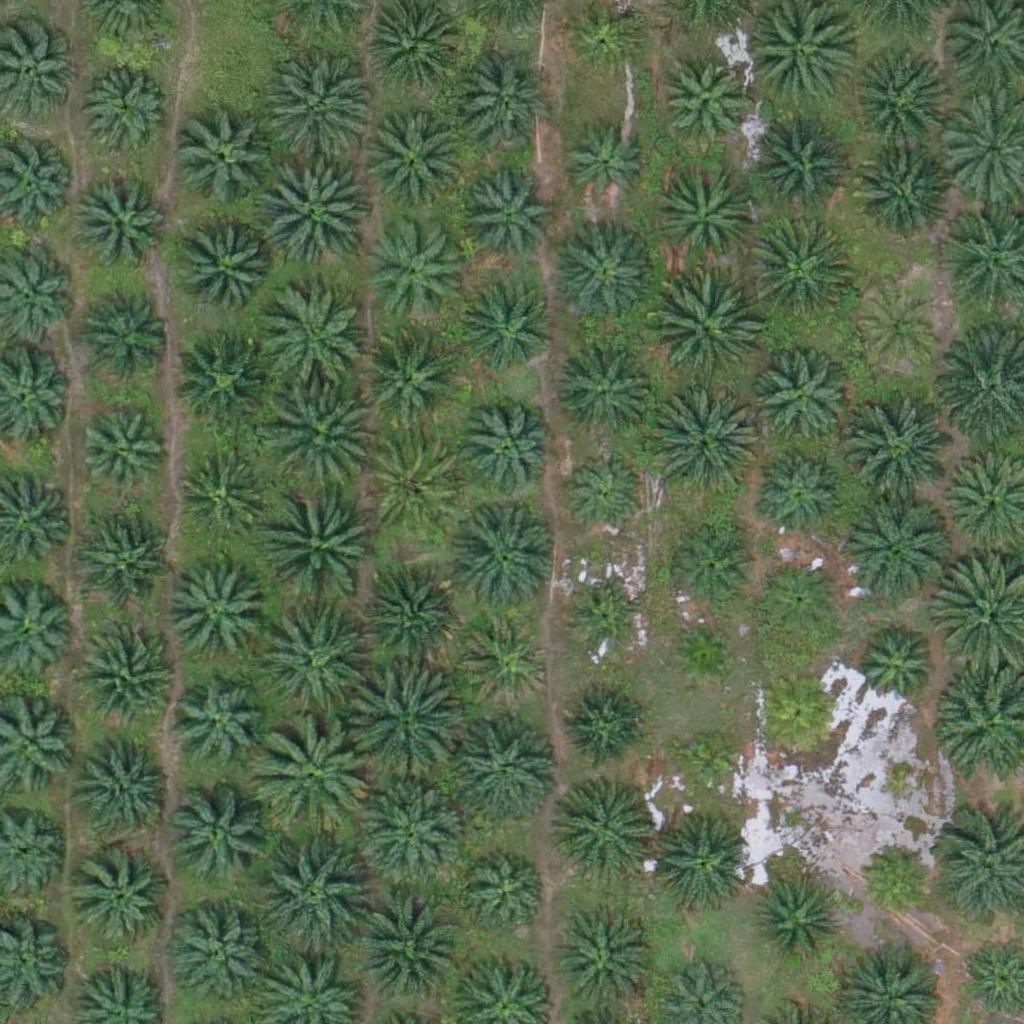Kelapa_Sawit: (253, 606, 366, 720), (262, 378, 375, 492), (259, 50, 372, 163), (257, 837, 370, 950), (646, 385, 759, 498), (647, 273, 760, 386), (256, 286, 369, 399), (262, 157, 375, 270), (358, 774, 470, 888), (264, 481, 376, 595), (255, 720, 367, 833), (345, 668, 457, 781), (350, 889, 462, 1002), (448, 709, 560, 822), (745, 215, 857, 328), (447, 499, 559, 612), (843, 398, 955, 511), (838, 491, 950, 604), (174, 107, 274, 208), (459, 51, 559, 152), (742, 114, 842, 215), (845, 45, 945, 146), (72, 847, 172, 948), (73, 623, 173, 724), (170, 674, 270, 775), (168, 784, 268, 885), (556, 915, 656, 1016), (647, 813, 747, 914), (750, 347, 850, 448), (654, 166, 754, 267), (552, 226, 652, 327), (554, 339, 654, 440), (456, 398, 556, 499), (362, 216, 462, 317), (359, 326, 459, 427), (75, 511, 175, 612), (366, 109, 466, 209), (80, 734, 180, 834), (164, 565, 264, 665), (167, 902, 267, 1002), (360, 569, 460, 669), (553, 777, 653, 877), (846, 142, 946, 242), (365, 435, 465, 535), (176, 217, 276, 317), (176, 331, 276, 431), (79, 282, 179, 382), (71, 173, 171, 273), (754, 667, 842, 756), (81, 60, 169, 148), (658, 58, 746, 146), (754, 554, 842, 642), (855, 285, 943, 373), (559, 452, 647, 540), (462, 284, 550, 372), (461, 175, 549, 263), (175, 450, 263, 538), (77, 412, 165, 500), (756, 450, 843, 539), (558, 122, 645, 210), (462, 617, 549, 705), (466, 851, 553, 939), (561, 681, 648, 769), (753, 878, 840, 966), (850, 622, 937, 710), (665, 524, 752, 612), (857, 839, 932, 915), (665, 616, 740, 692), (669, 724, 744, 800), (571, 587, 646, 662)
